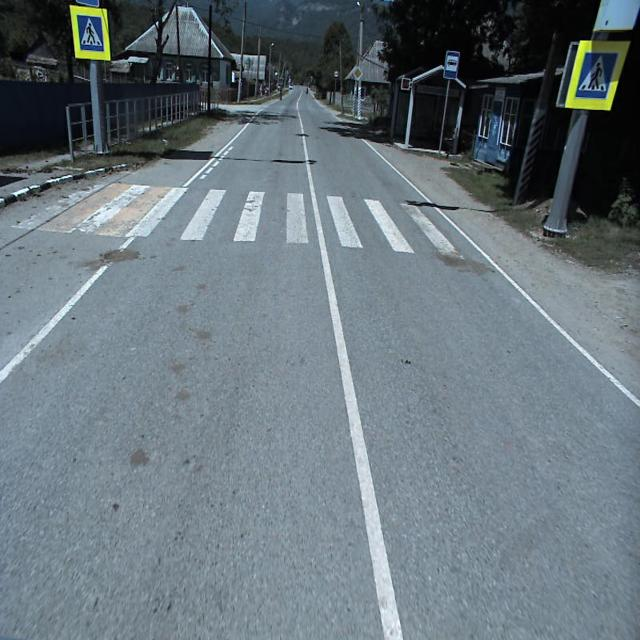road: (0, 85, 640, 639)
